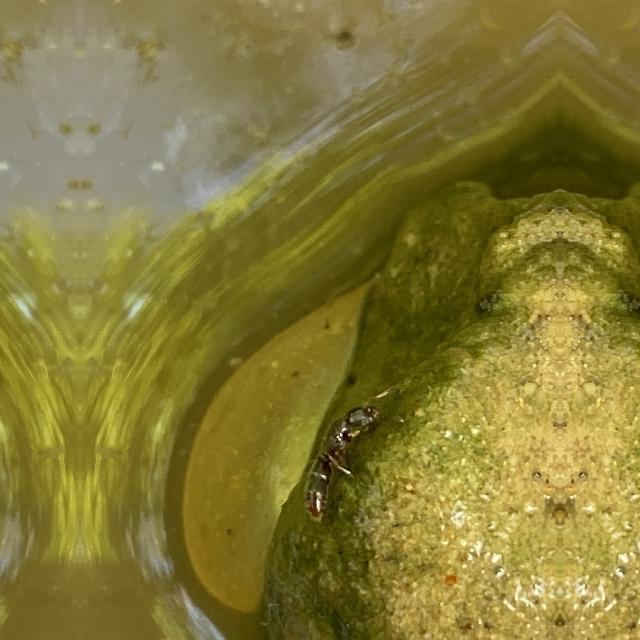Ponera: (281, 386, 413, 532)
